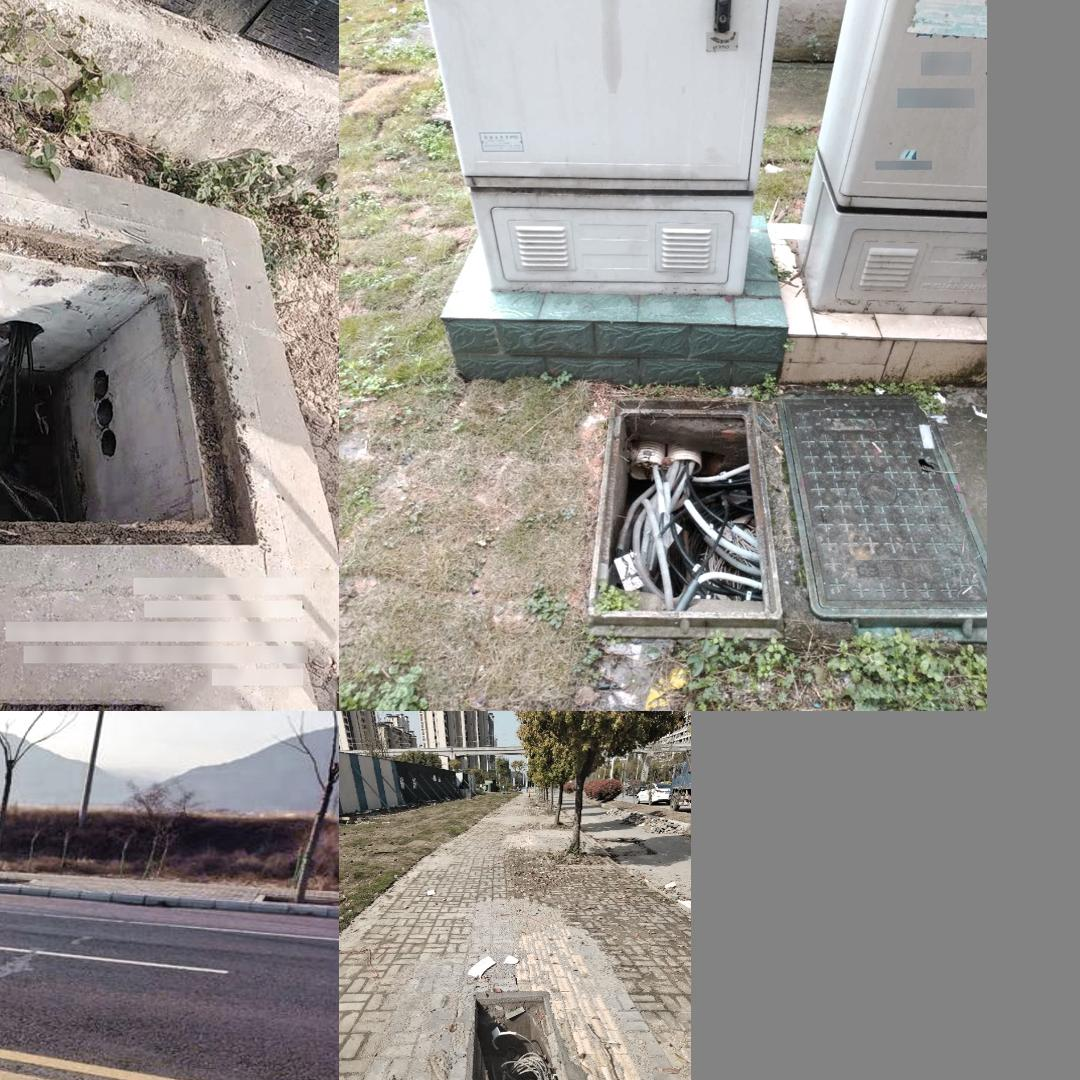good: (780, 393, 982, 639)
lose: (0, 163, 297, 592), (583, 408, 783, 640), (453, 972, 597, 1080)
